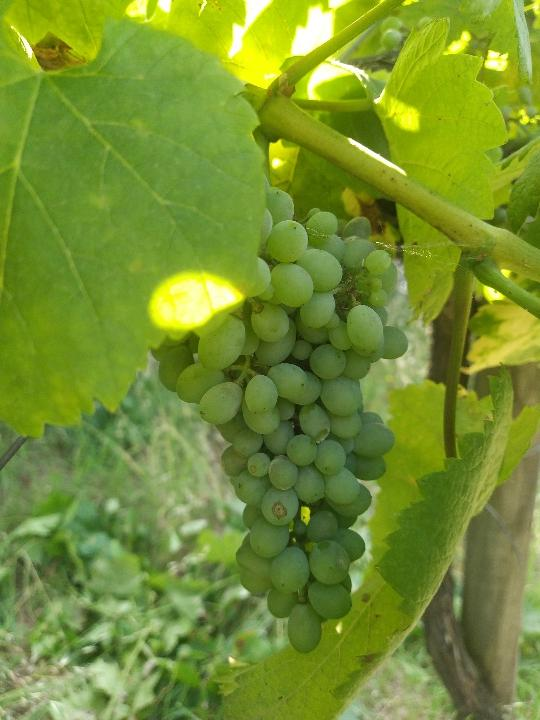grape: (151, 173, 413, 661)
